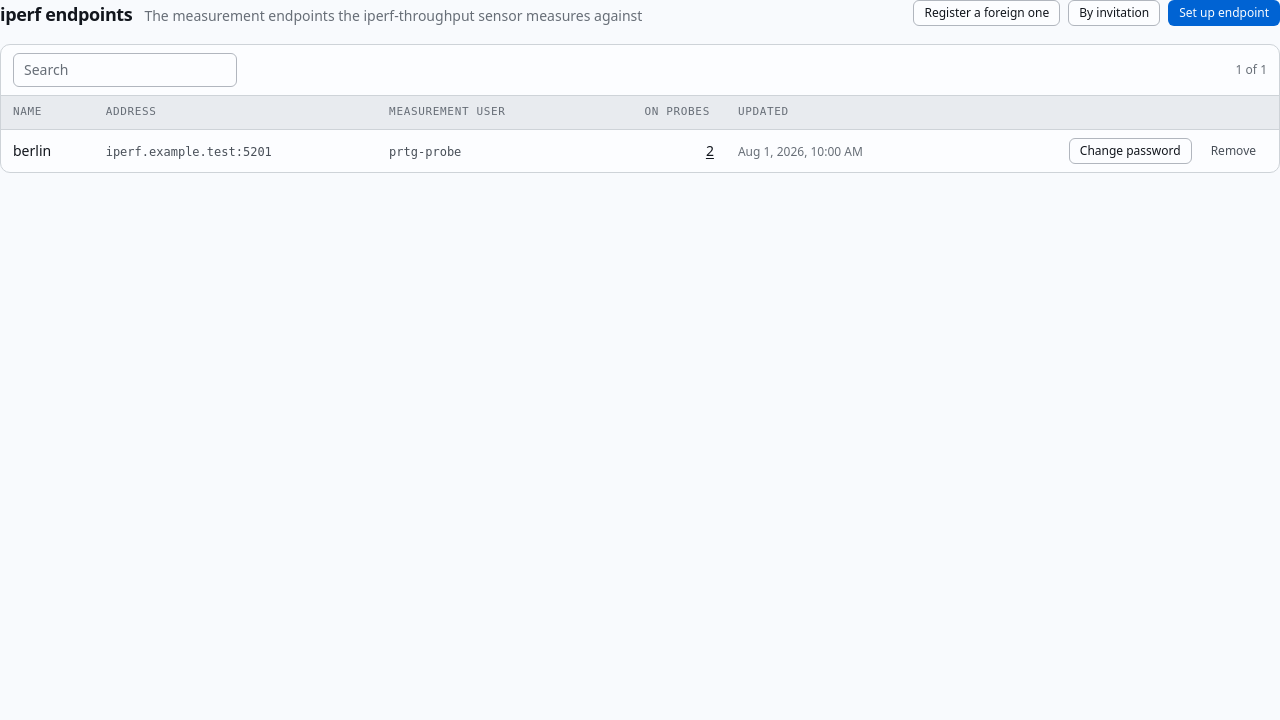
Test: changing the password of a measurement endpoint › says how many probes it reaches before it runs
Click the button "Change password" at (1130,150), box [1069,138,1192,164]
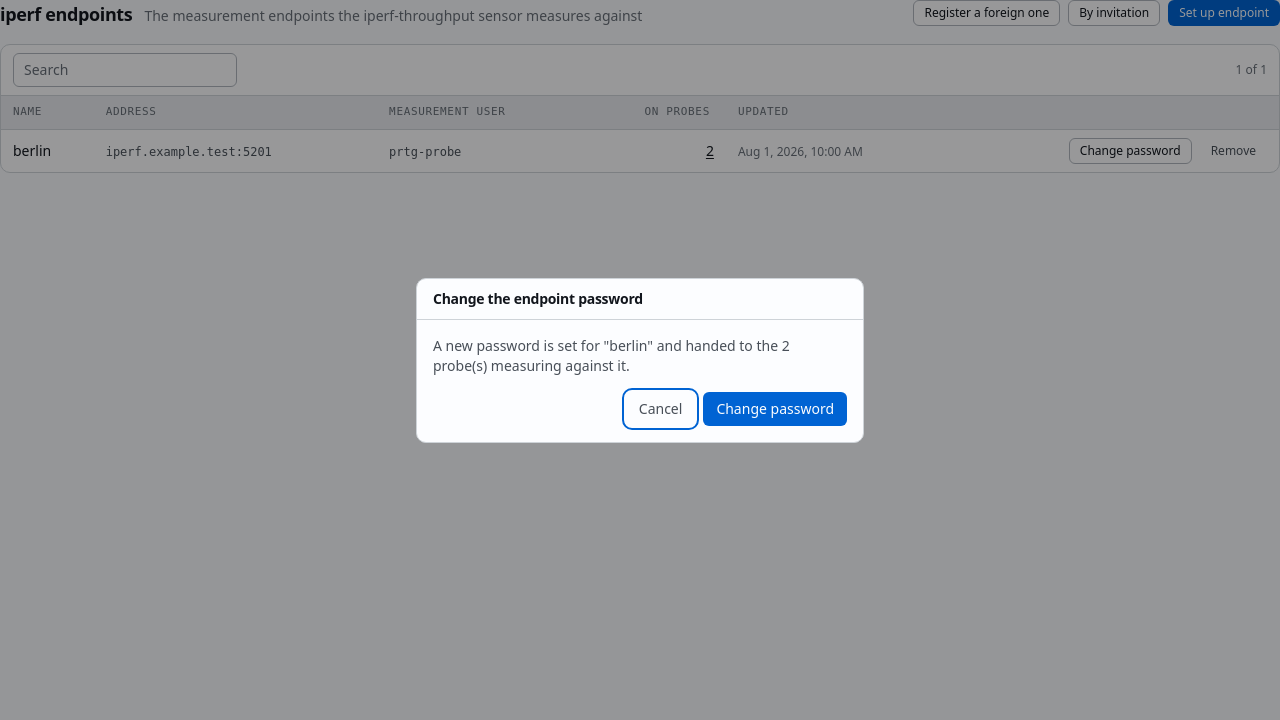
Expected: the text "2 probe" is shown, [433,336,790,374]
